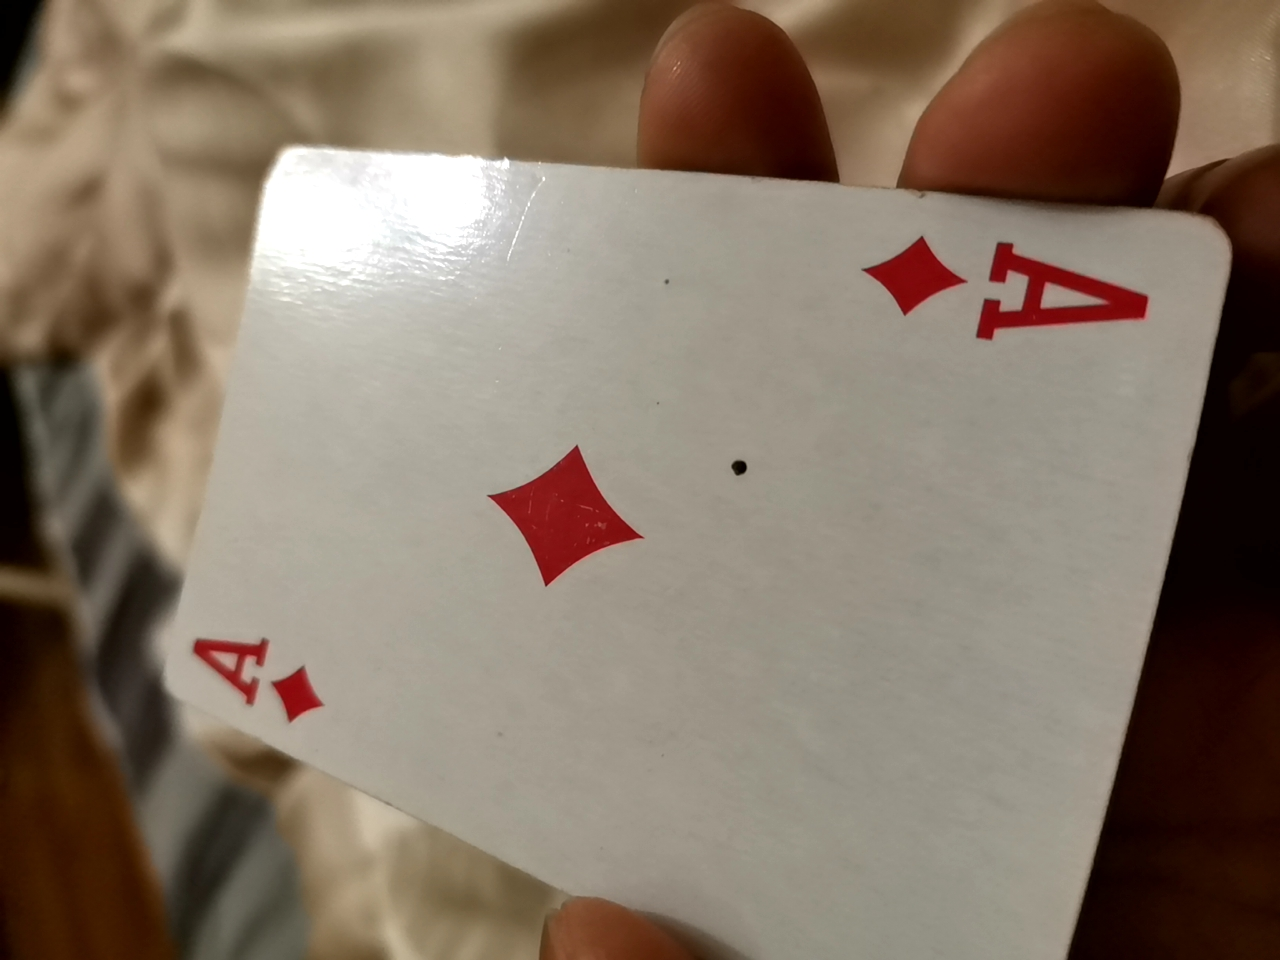fk a: (120, 129, 1257, 955)
